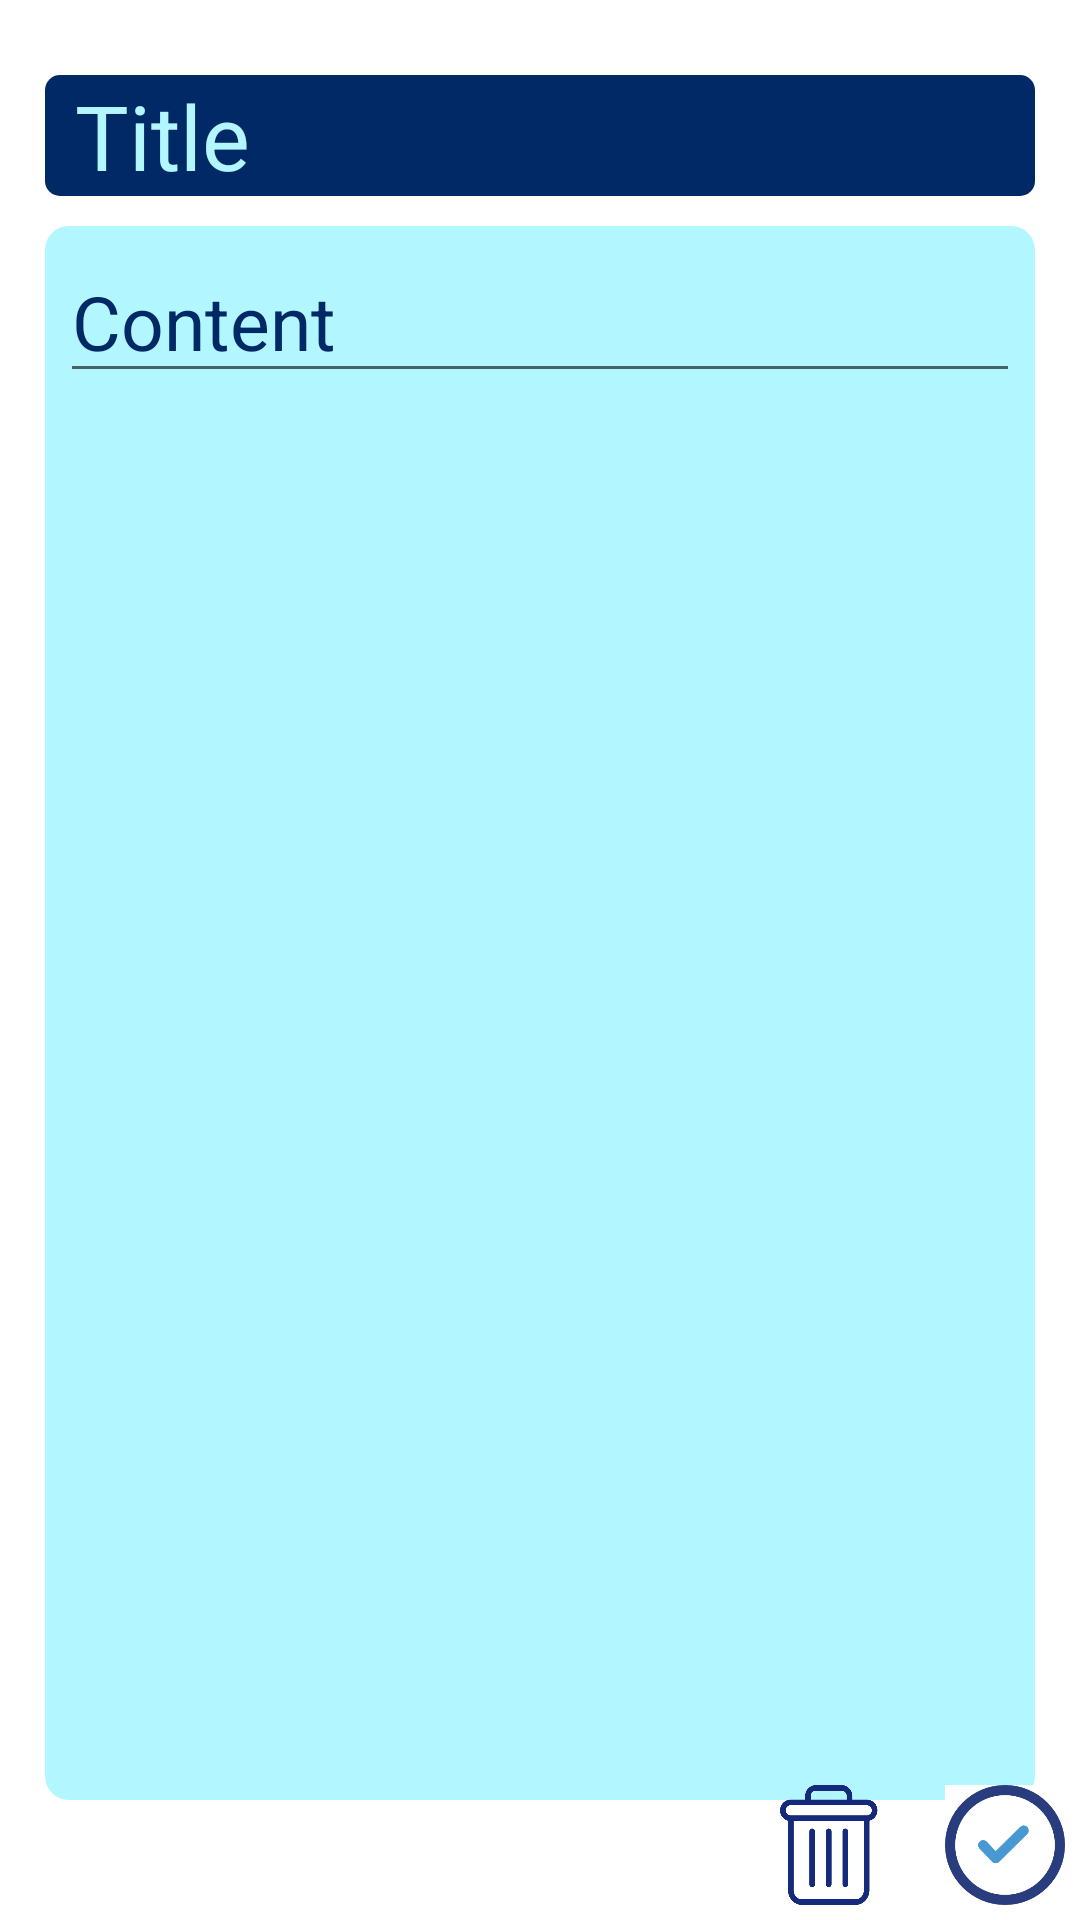

Where icons sit on this 1080x1920 app screen, as (x1, y1, x2, y2):
checked: (945, 1785, 1065, 1905)
delete: (780, 1785, 900, 1905)
